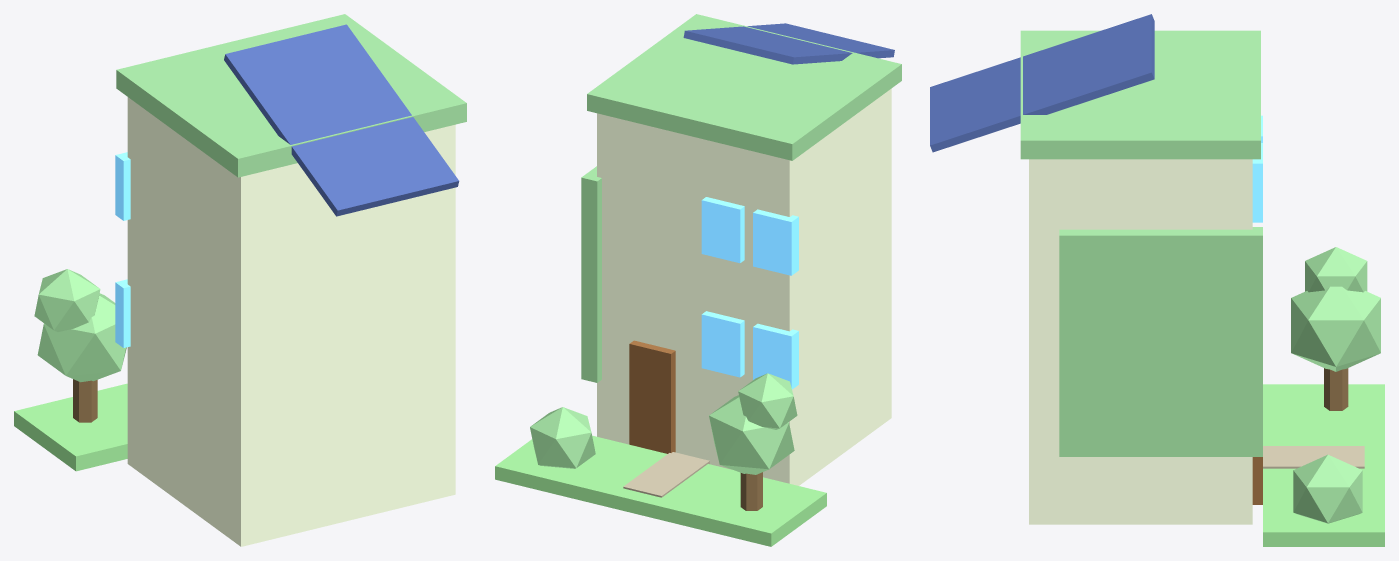
Rendered from res_eco_2.glb.
3 renders of one model, left to right at view 1: azimuth 30°, elevation 25°; view 2: azimuth 150°, elevation 25°; view 3: azimuth 270°, elevation 25°, orthographic. The views are drawn at different scales.
Parts seen in each view (by area): view 1: res_eco_2; view 2: res_eco_2; view 3: res_eco_2.
Boxes of the visible parts, x1,y1,x2,y2 form: res_eco_2: [14, 14, 466, 546]; res_eco_2: [495, 14, 901, 546]; res_eco_2: [930, 14, 1384, 546].
Size of the model in its own units: 0.8605 by 1.18 by 1.12.
